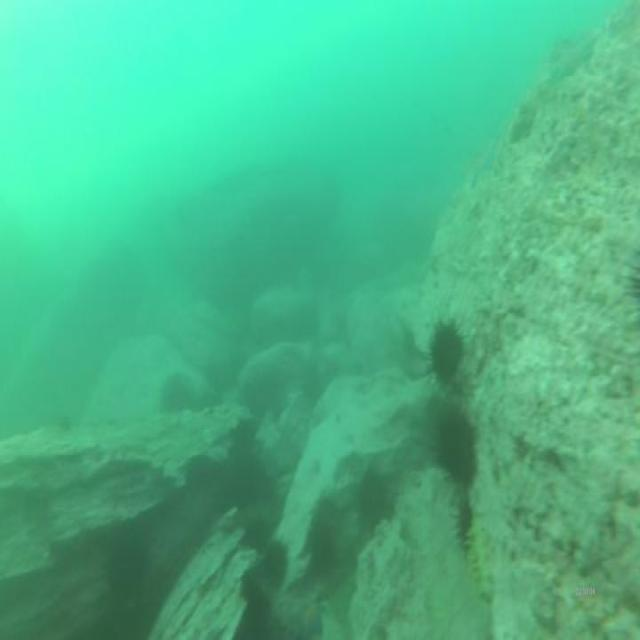echinus: (437, 406, 479, 488), (106, 532, 148, 600), (426, 320, 466, 390), (356, 463, 389, 531), (156, 370, 197, 417), (238, 561, 270, 619), (261, 539, 291, 592), (452, 500, 474, 562), (240, 517, 276, 553)
holothurian: (466, 507, 498, 605)
